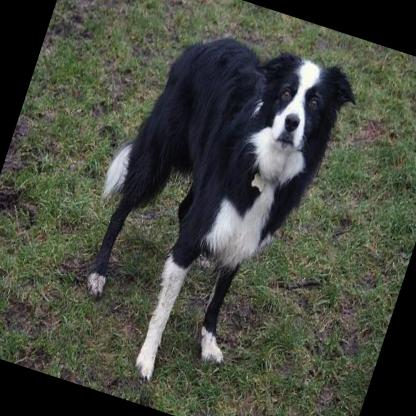collie: (51, 8, 364, 414)
